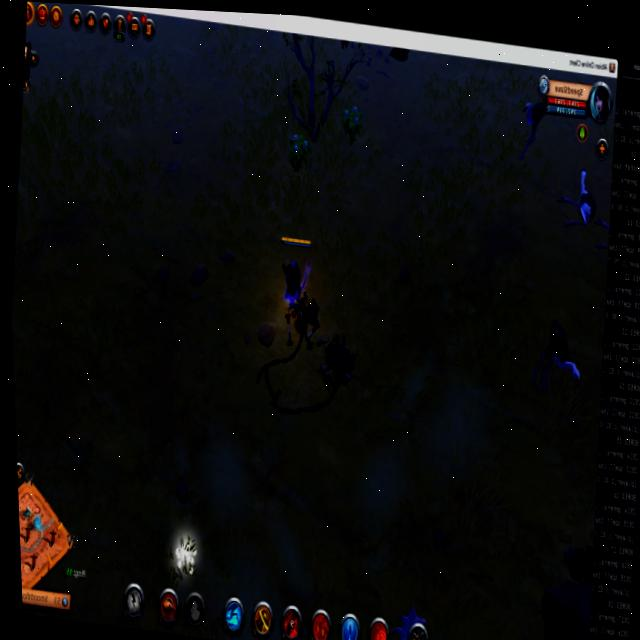hide: (283, 127, 314, 179), (336, 98, 367, 149)
mob: (548, 159, 603, 237)
ore: (519, 302, 592, 404), (510, 91, 552, 162)
red: (271, 228, 319, 317)
